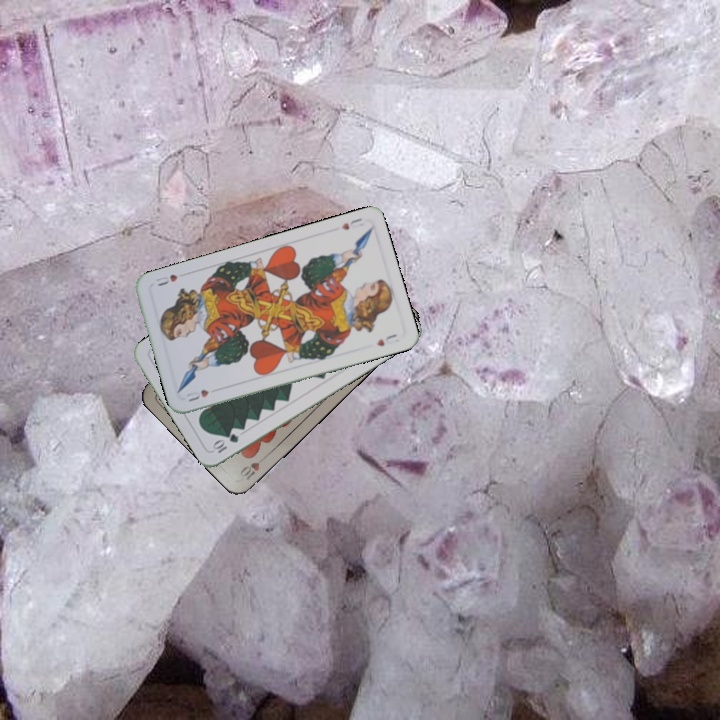G10: (209, 430, 241, 456)
H10: (236, 450, 270, 483)
HU: (182, 385, 211, 404), (337, 214, 364, 233)
